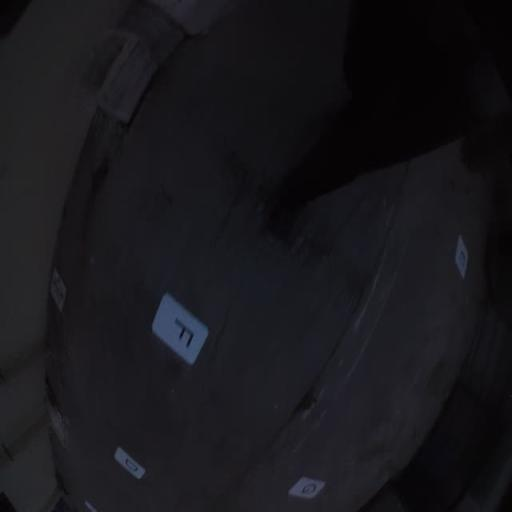D: (114, 446, 146, 480)
E: (454, 236, 469, 279)
F: (151, 291, 209, 366)
G: (288, 476, 326, 500)
